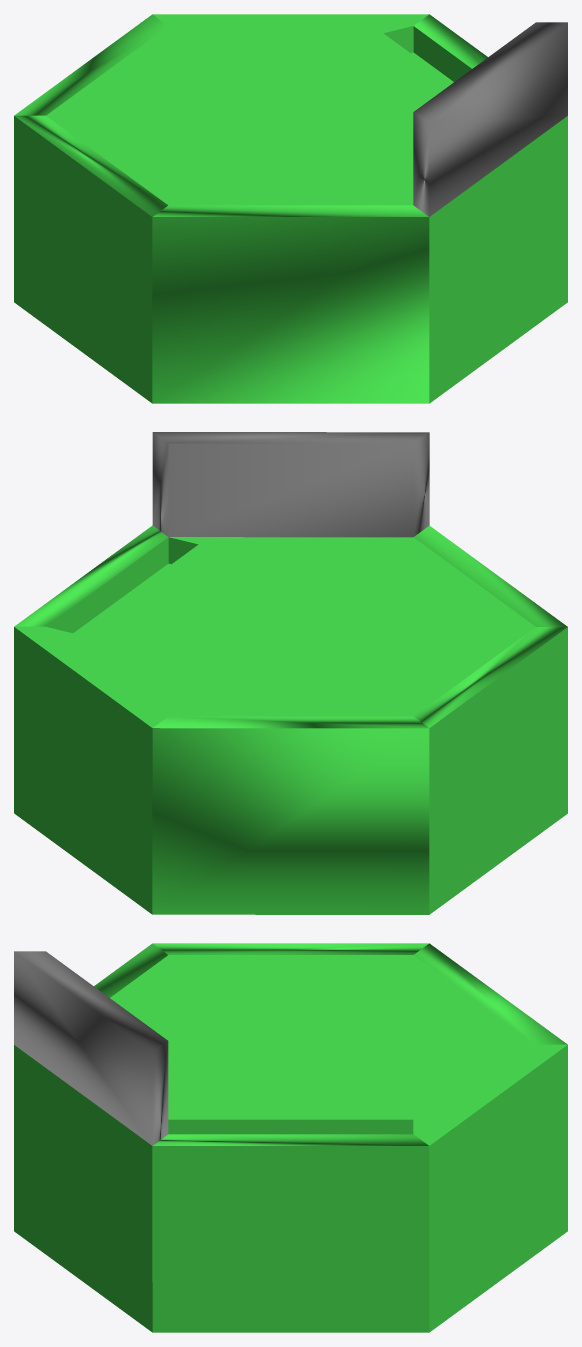
The model's file is Stage1_Door_1.fbx.
3 renders of one model, top to bottom at view 1: azimuth 30°, elevation 25°; view 2: azimuth 150°, elevation 25°; view 3: azimuth 270°, elevation 25°, orthographic.
Visible parts, largest first — view 1: Stage1_Door_1; view 2: Stage1_Door_1; view 3: Stage1_Door_1.
Boxes of the visible parts, x1=… form: Stage1_Door_1: x1=14, y1=14, x2=567, y2=403; Stage1_Door_1: x1=14, y1=432, x2=567, y2=914; Stage1_Door_1: x1=14, y1=943, x2=567, y2=1332.
Bounding box in the file's own units: 173 × 112 × 200.
